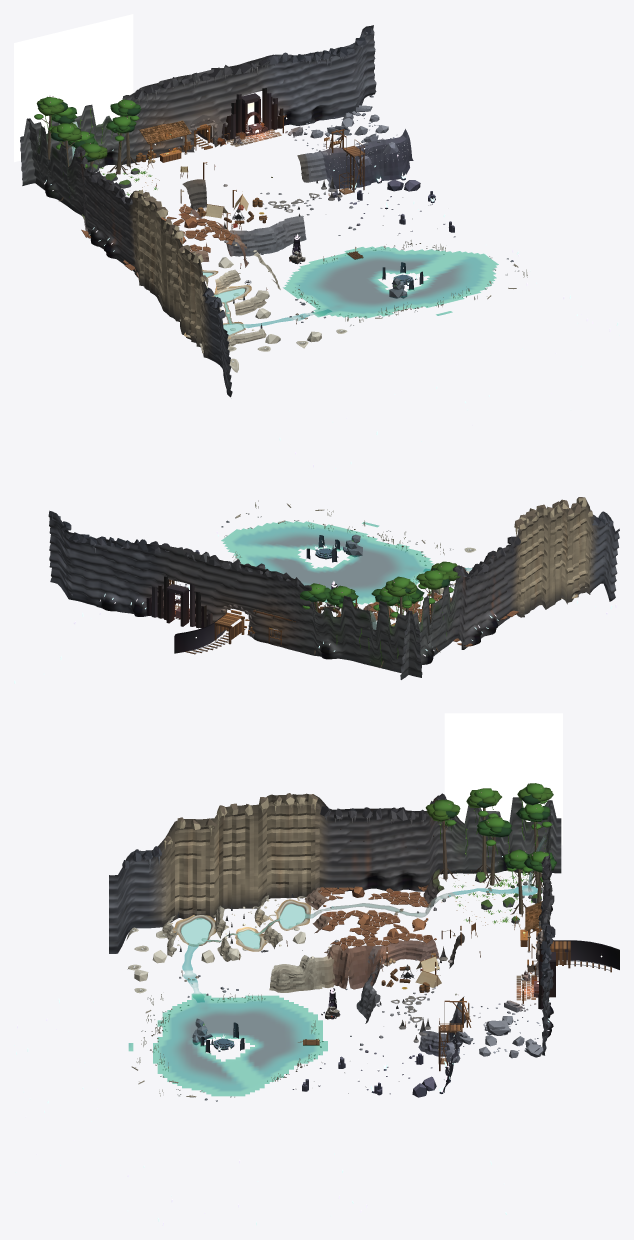
File: caverns.glb
3 renders of one model, top to bottom at view 1: azimuth 30°, elevation 25°; view 2: azimuth 150°, elevation 25°; view 3: azimuth 270°, elevation 25°, orthographic. The views are drawn at different scales.
Parts seen in each view (by area): view 1: Cave_Shell, Cave_Rock, Cave_Glow, Cave_Water, Cave_Roots; view 2: Cave_Shell, Cave_Water, Cave_Rock, Cave_Roots, Cave_Glow; view 3: Cave_Shell, Cave_Rock, Cave_Water, Cave_Glow, Cave_Roots, Cave_Thermal.
Part boxes in pixels (x1=…): Cave_Shell: x1=20, y1=25, x2=376, y2=397; Cave_Rock: x1=38, y1=88, x2=527, y2=372; Cave_Glow: x1=14, y1=14, x2=619, y2=468; Cave_Water: x1=72, y1=121, x2=498, y2=327; Cave_Roots: x1=34, y1=96, x2=141, y2=201; Cave_Shell: x1=48, y1=497, x2=619, y2=679; Cave_Water: x1=221, y1=521, x2=472, y2=629; Cave_Rock: x1=71, y1=500, x2=587, y2=664; Cave_Roots: x1=300, y1=561, x2=460, y2=668; Cave_Glow: x1=14, y1=527, x2=616, y2=683; Cave_Shell: x1=109, y1=793, x2=561, y2=1055; Cave_Rock: x1=126, y1=801, x2=619, y2=1101; Cave_Water: x1=128, y1=835, x2=546, y2=1096; Cave_Glow: x1=14, y1=713, x2=602, y2=1225; Cave_Roots: x1=425, y1=783, x2=556, y2=916; Cave_Thermal: x1=181, y1=904, x2=305, y2=948.
Size of what is drawn, in the model's own units: 55.74 by 33.23 by 62.34.
